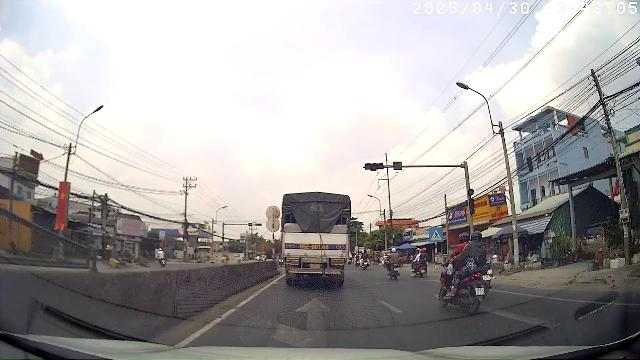423a-duong-nguoi-di-bo-sang-ngang-1: (429, 228, 443, 242)
